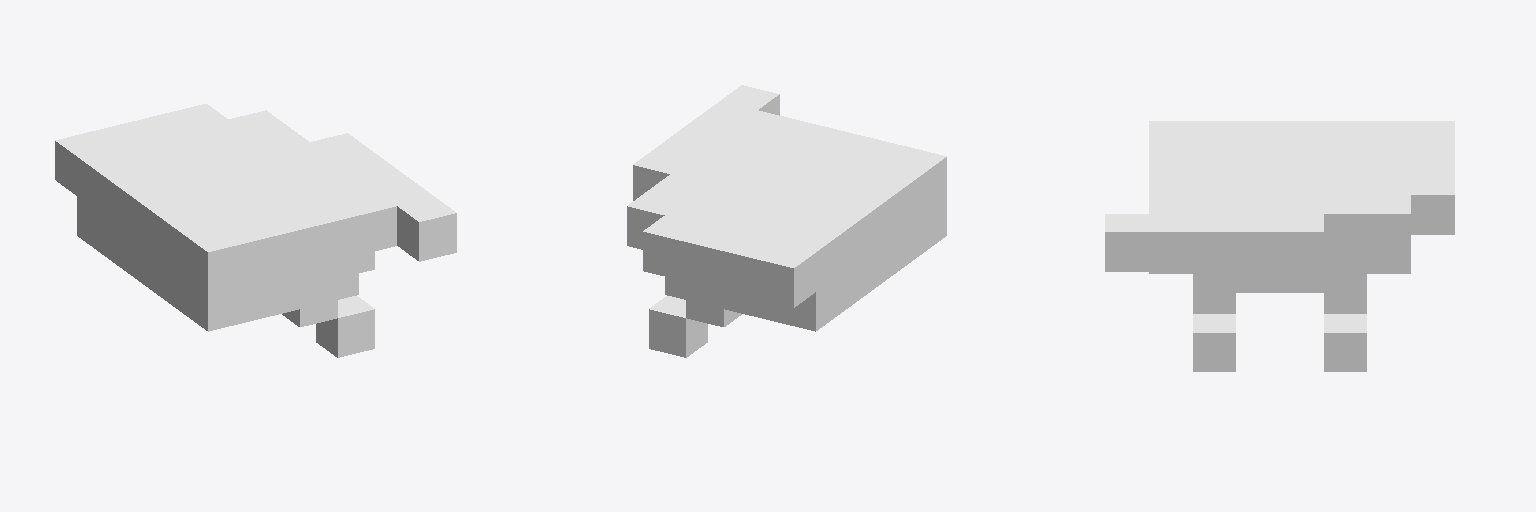
File: SpaceInvaders5.4.obj
3 views of the same model, side by side, from view 1: azimuth 30°, elevation 25°; view 2: azimuth 150°, elevation 25°; view 3: azimuth 270°, elevation 25° (orthographic).
Visible parts, largest first — view 1: object 1; view 2: object 1; view 3: object 1.
Boxes of the visible parts, <box> form: object 1: <box>55,104,456,357</box>; object 1: <box>627,85,946,357</box>; object 1: <box>1105,121,1454,371</box>.
Bounding box in the file's own units: 0.6 × 0.4 × 0.8.